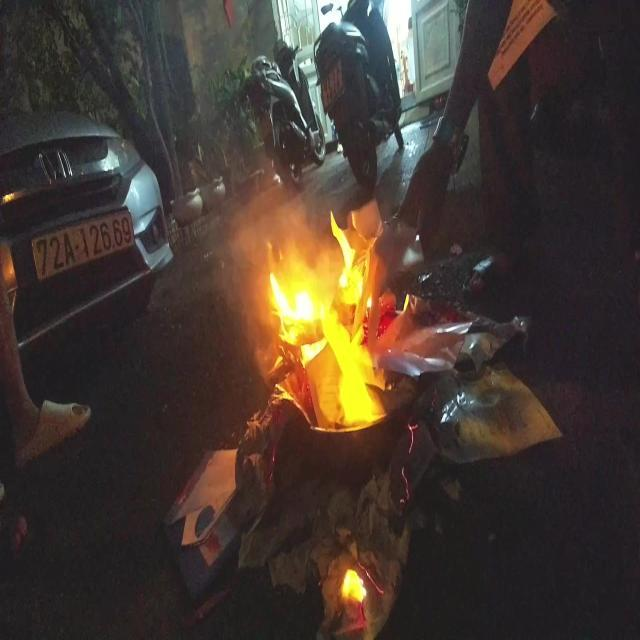Fire: (266, 208, 386, 427)
Smoke: (206, 162, 272, 368), (340, 563, 368, 604)
